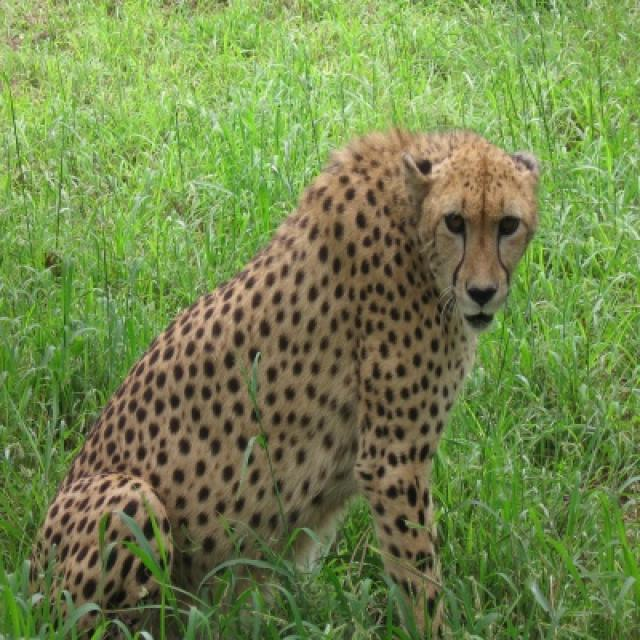Cheetah: (30, 128, 536, 635)
